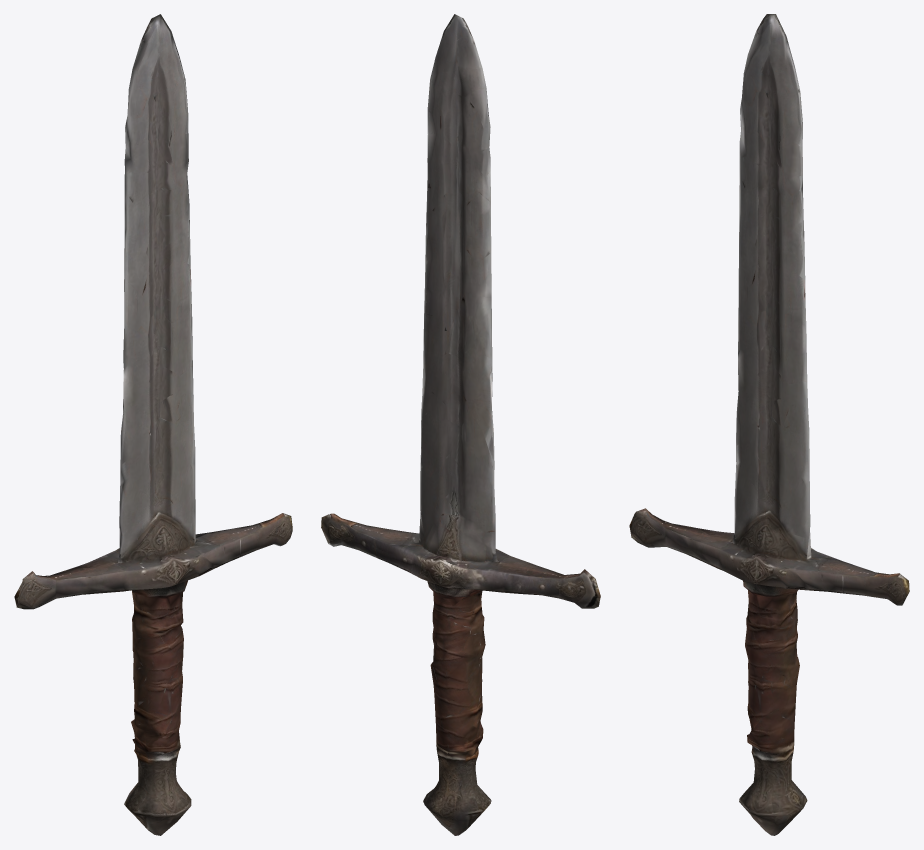
File: 1298_sword.glb
3 renders of one model, left to right at view 1: azimuth 30°, elevation 25°; view 2: azimuth 150°, elevation 25°; view 3: azimuth 330°, elevation 25°, orthographic.
Visible parts, largest first — view 1: Model; view 2: Model; view 3: Model.
Boxes of the visible parts, left/top/right/bottom form: Model: left=14, top=14, right=292, bottom=835; Model: left=321, top=14, right=600, bottom=835; Model: left=629, top=14, right=909, bottom=835.
Size of the model in its own units: 0.3557 by 1 by 0.0795.
Materials: 1 (1 with a texture image).
